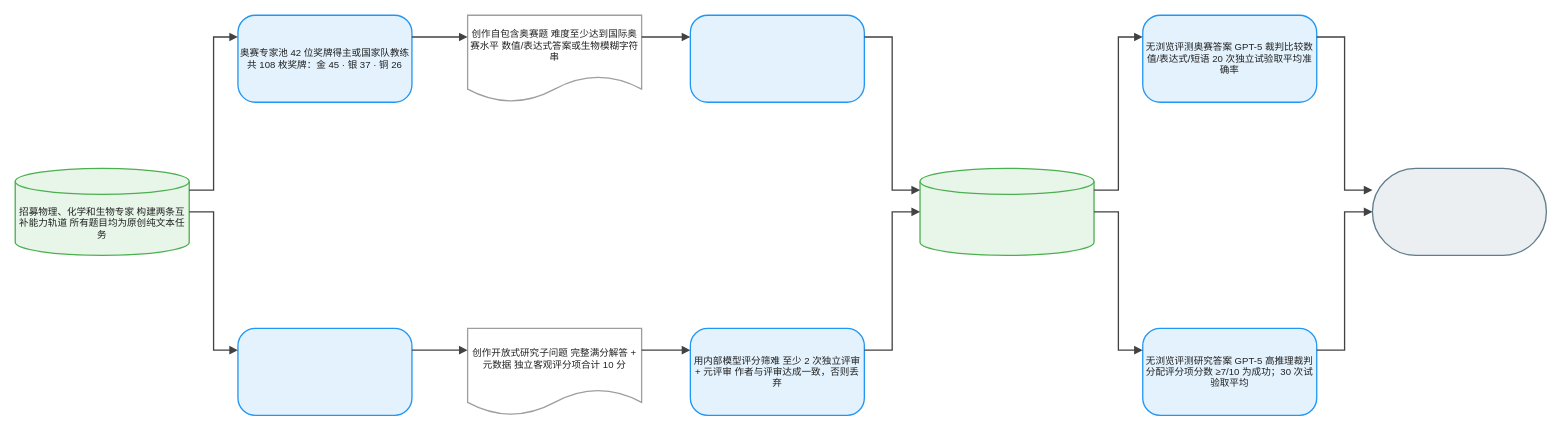
Image size: 1563x432. Some labels were removed from this diagram. Here are the shapes that lost their labels. From the top down, the centre of each, then its label:
At point 777,58: "用内部模型筛难；答对则修订 至少 1 次独立评审 + 整体评审 作者与评审达成一致，否则丢弃".
At point 1006,211: "专家元评审并发布 500+ 奥赛题 → 100 道黄金题 200+ 研究题 → 60 道黄金题；其余保留".
At point 1459,211: "分轨报告准确率 奥赛：受约束的精确推理 研究：开放过程与最终答案质量".
At point 324,371: "研究专家池 45 位博士科学家：博士生、博后、教师 真实研究子问题，至少需 3–5 小时".
